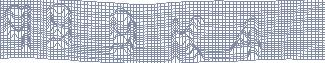4: (229, 16, 264, 63)
9: (105, 8, 139, 57), (45, 2, 73, 50)
K: (169, 14, 206, 62)
q: (3, 4, 33, 53)
